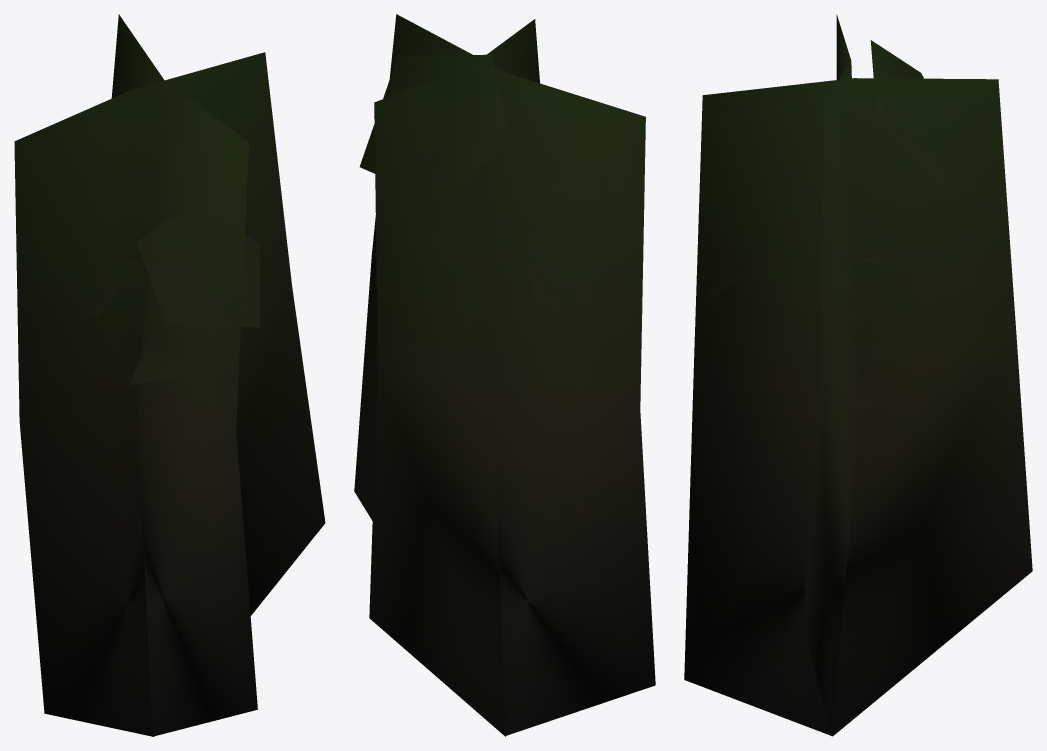
File: Flowers01_Blue 2.fbx
3 renders of one model, left to right at view 1: azimuth 30°, elevation 25°; view 2: azimuth 150°, elevation 25°; view 3: azimuth 270°, elevation 25°, orthographic. The views are drawn at different scales.
Parts seen in each view (by area): view 1: Flowers01_Blue 2; view 2: Flowers01_Blue 2; view 3: Flowers01_Blue 2.
Part boxes in pixels (x1,y1,x2,y2): Flowers01_Blue 2: (14, 14, 325, 736); Flowers01_Blue 2: (354, 14, 655, 736); Flowers01_Blue 2: (684, 14, 1032, 736).
Bounding box in the file's own units: 0.299 × 0.6458 × 0.2937.
